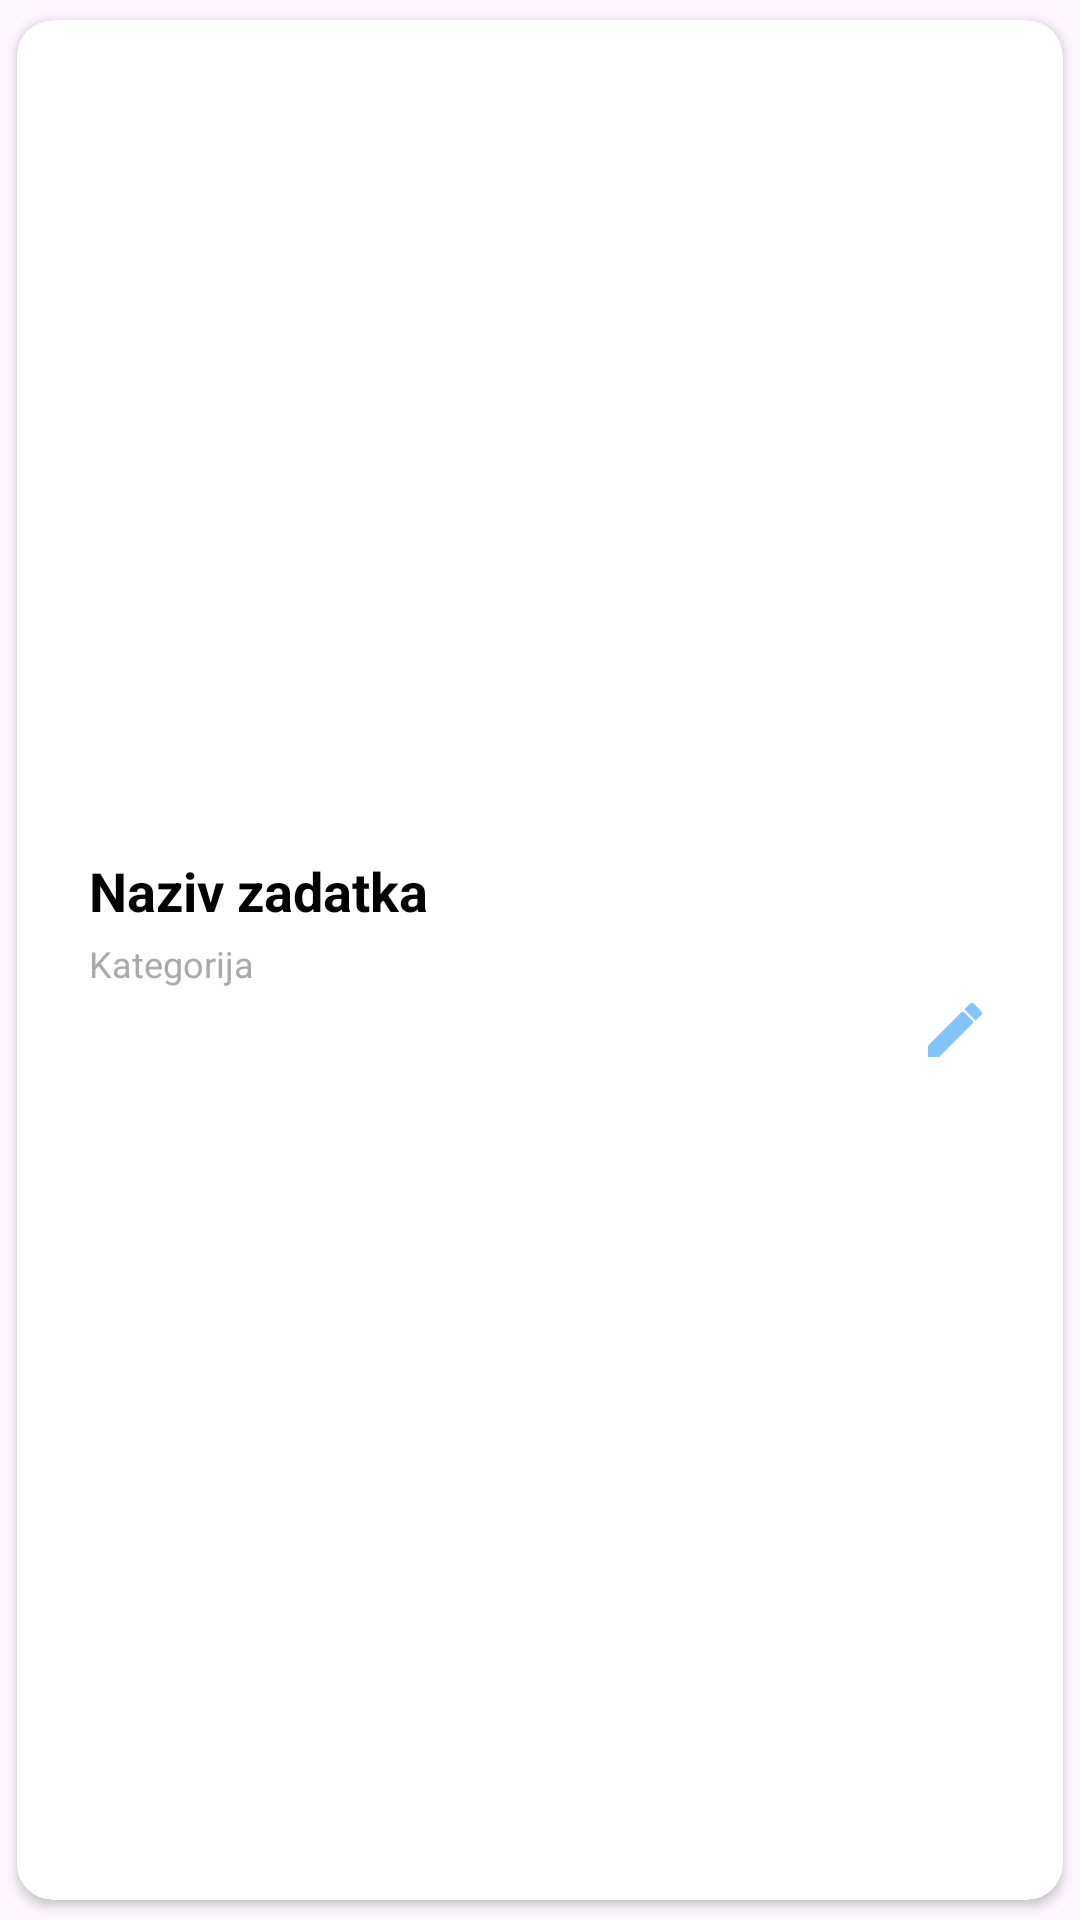

Icon bounding boxes for this 1080 × 1920 phone screenshot, format (x1, y1, x2, y2):
edit: (928, 1003, 982, 1057)
